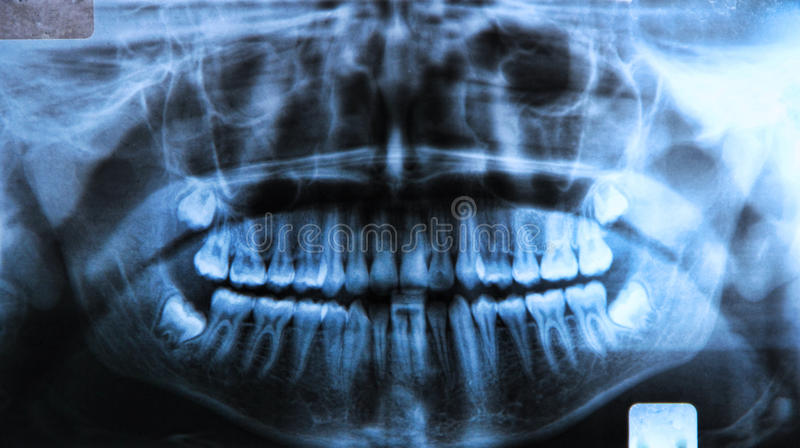canine: (447, 295, 483, 405), (451, 199, 488, 300), (340, 297, 373, 401), (319, 201, 348, 299)
incisor: (150, 285, 209, 349), (395, 199, 432, 298), (343, 200, 375, 301), (367, 201, 400, 296), (426, 200, 457, 299), (385, 283, 414, 385), (402, 286, 430, 385)
molar: (194, 277, 259, 370), (521, 286, 583, 381), (242, 282, 298, 383), (562, 277, 625, 357), (538, 193, 581, 288), (603, 272, 664, 337), (190, 212, 234, 287), (227, 213, 268, 291), (576, 200, 615, 282), (508, 203, 543, 289), (173, 176, 221, 238), (585, 171, 629, 226)
premolar: (291, 293, 331, 390), (467, 289, 505, 388), (474, 204, 515, 294), (495, 290, 535, 382), (291, 204, 328, 297), (317, 295, 349, 392), (265, 210, 299, 296)
